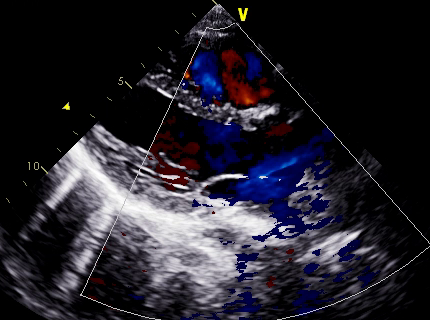AR: (168, 116, 291, 169)
